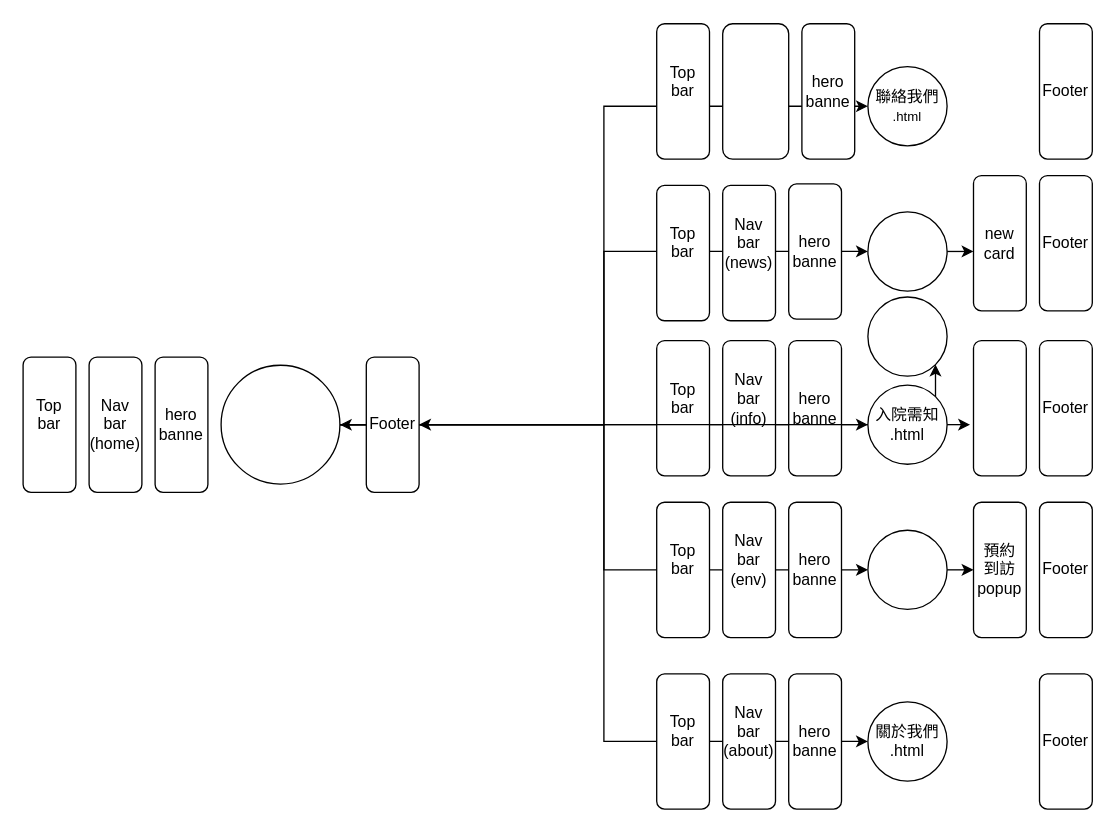
Image size: 1115x832. Some labels were removed from this diagram. The shapes that lost their labels are listed below. From the top down, each one's centre as x and y in pixels, then its label:
the point at 755,90: Nav bar (contact)
the point at 907,251: 院舍消息 .html
the point at 907,336: 護老指引 .html
the point at 280,424: 首頁.html
the point at 999,407: 銀行 過數 popup
the point at 907,569: 院舍環境 .html
